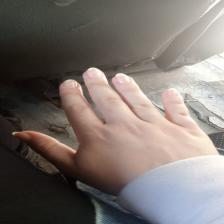five: (16, 65, 217, 185)
